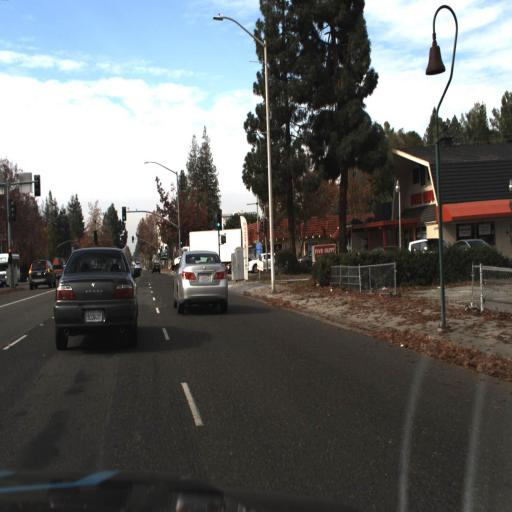car: (44, 237, 140, 361), (167, 244, 234, 324), (172, 248, 230, 316), (398, 223, 452, 268), (242, 245, 283, 278), (26, 255, 57, 294), (22, 257, 56, 292), (147, 255, 164, 277)
trafficLight-Green: (214, 206, 228, 234), (121, 199, 129, 227)
truck: (158, 221, 251, 284)
